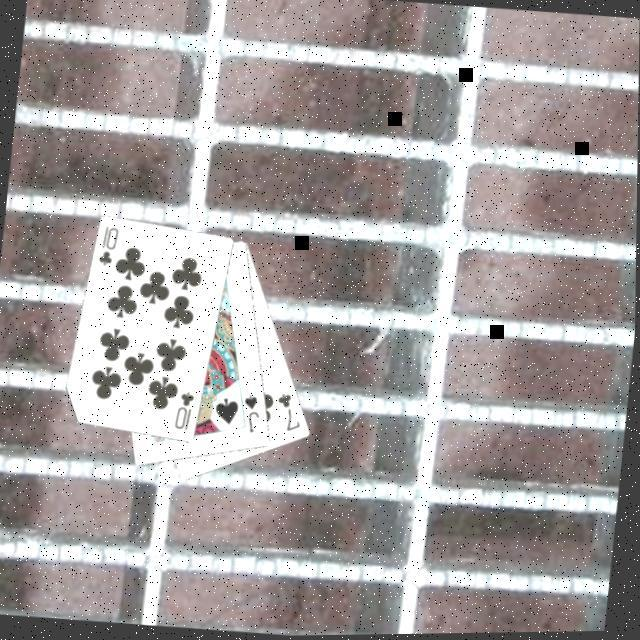10C: (96, 220, 125, 267), (173, 386, 201, 432)
7C: (274, 388, 310, 435)
JS: (240, 389, 268, 435)
